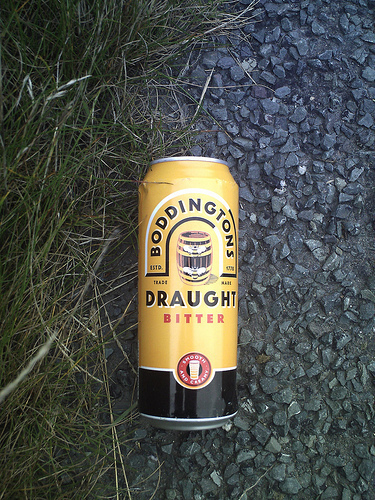litter: (137, 154, 240, 431)
